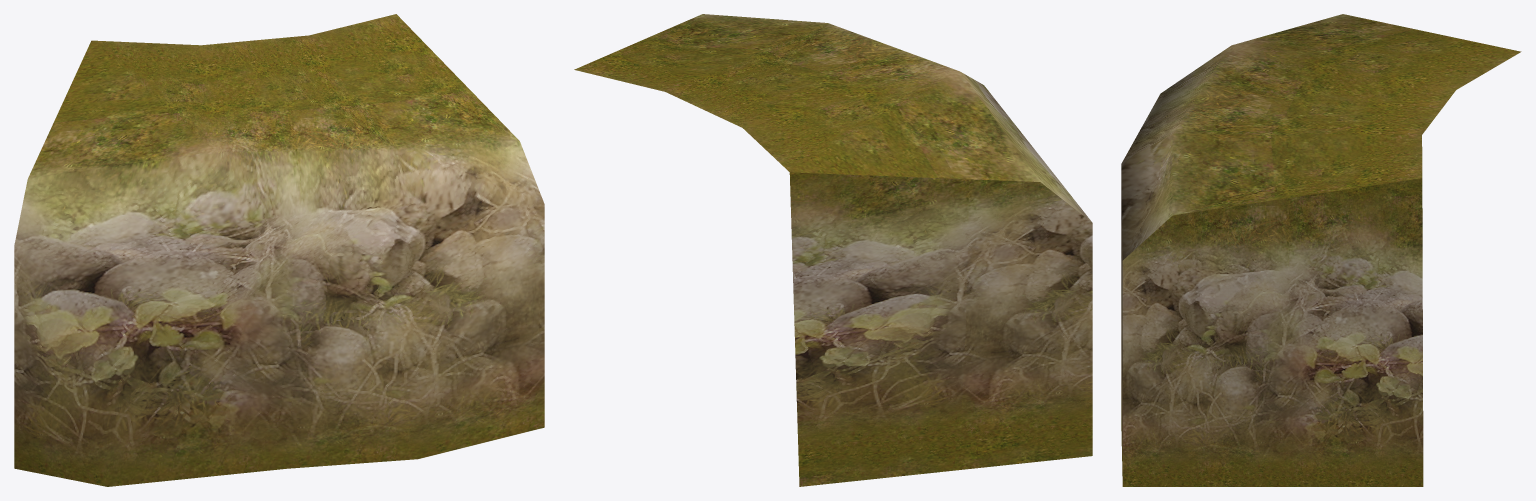
The model's file is n_tilewallB_2.glb.
3 renders of one model, left to right at view 1: azimuth 30°, elevation 25°; view 2: azimuth 150°, elevation 25°; view 3: azimuth 270°, elevation 25°, orthographic. The views are drawn at different scales.
Visible parts, largest first — view 1: n_tilewallB_2; view 2: n_tilewallB_2; view 3: n_tilewallB_2.
Part boxes in pixels (x1,y1,x2,y2): n_tilewallB_2: [14, 14, 544, 486]; n_tilewallB_2: [574, 14, 1092, 486]; n_tilewallB_2: [1121, 14, 1521, 486].
Size of the model in its own units: 5.14 by 3.41 by 4.01.
1 material, 1 textured.
